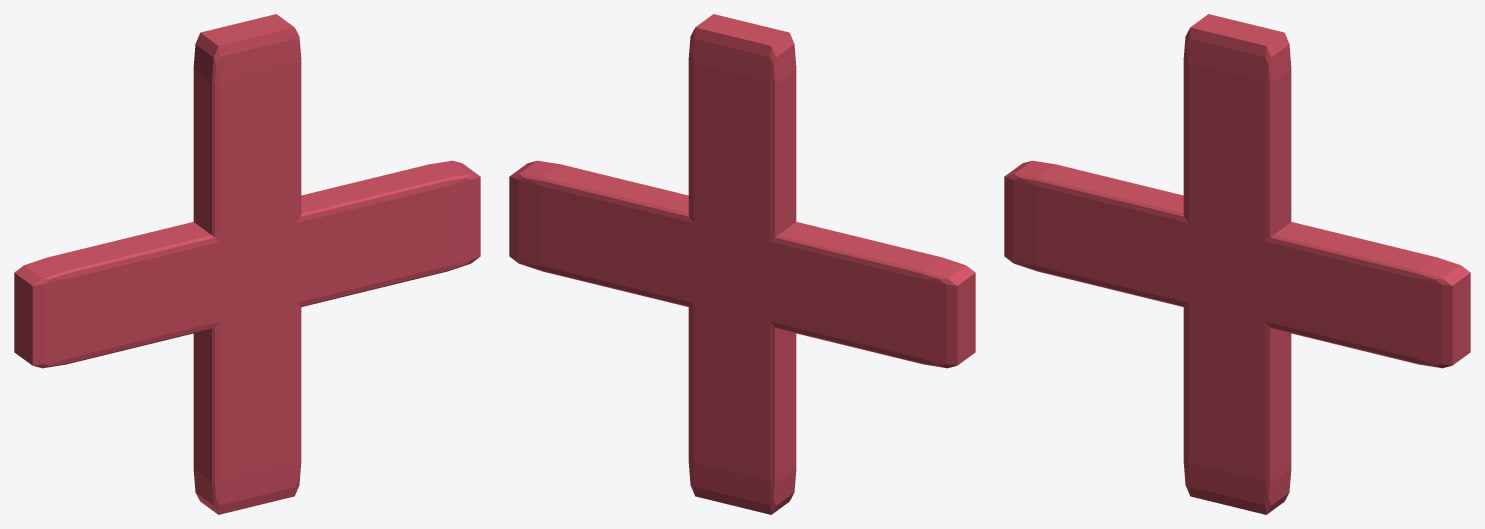
The model's file is plus.glb.
The picture shows the model from 3 angles, left to right: view 1: azimuth 30°, elevation 25°; view 2: azimuth 150°, elevation 25°; view 3: azimuth 330°, elevation 25°; orthographic projection.
Visible parts, largest first — view 1: Mesh_Mesh_head_geo.001_lambert2SG.001; view 2: Mesh_Mesh_head_geo.001_lambert2SG.001; view 3: Mesh_Mesh_head_geo.001_lambert2SG.001.
Part boxes in pixels (x1,y1,x2,y2): Mesh_Mesh_head_geo.001_lambert2SG.001: (14, 14, 480, 514); Mesh_Mesh_head_geo.001_lambert2SG.001: (509, 14, 975, 514); Mesh_Mesh_head_geo.001_lambert2SG.001: (1004, 14, 1470, 514).
Bounding box in the file's own units: 0.06 × 0.06 × 0.005.
